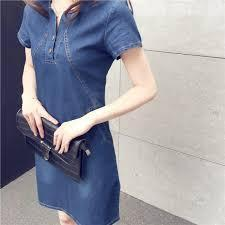dress: (20, 0, 149, 225)
